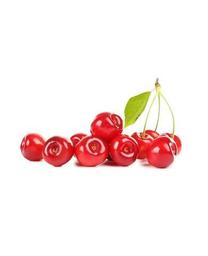cherry: (73, 137, 108, 167), (89, 112, 124, 141), (108, 136, 139, 168), (146, 136, 177, 168), (44, 135, 74, 168), (20, 133, 47, 161), (131, 132, 154, 158)
